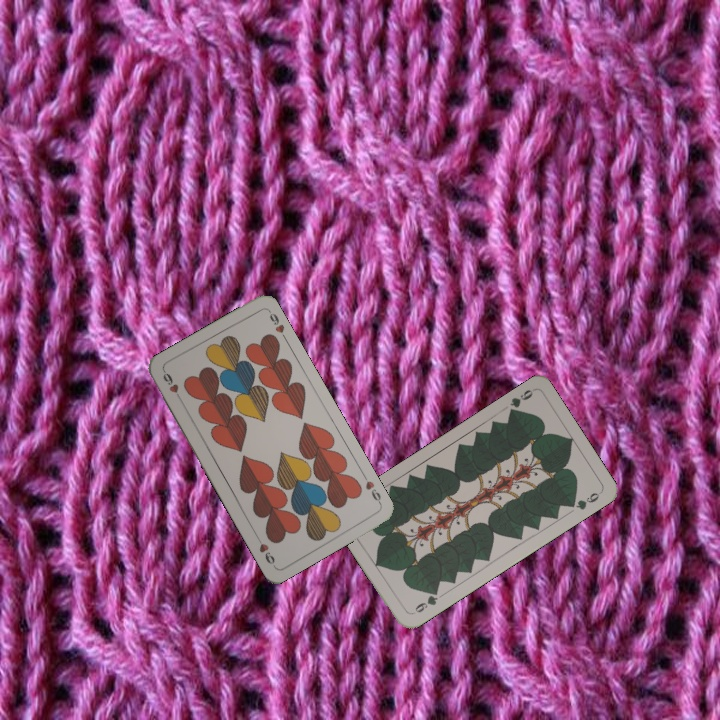G9: (504, 385, 537, 418), (408, 586, 441, 617)
H9: (159, 367, 185, 404), (359, 470, 384, 507)
